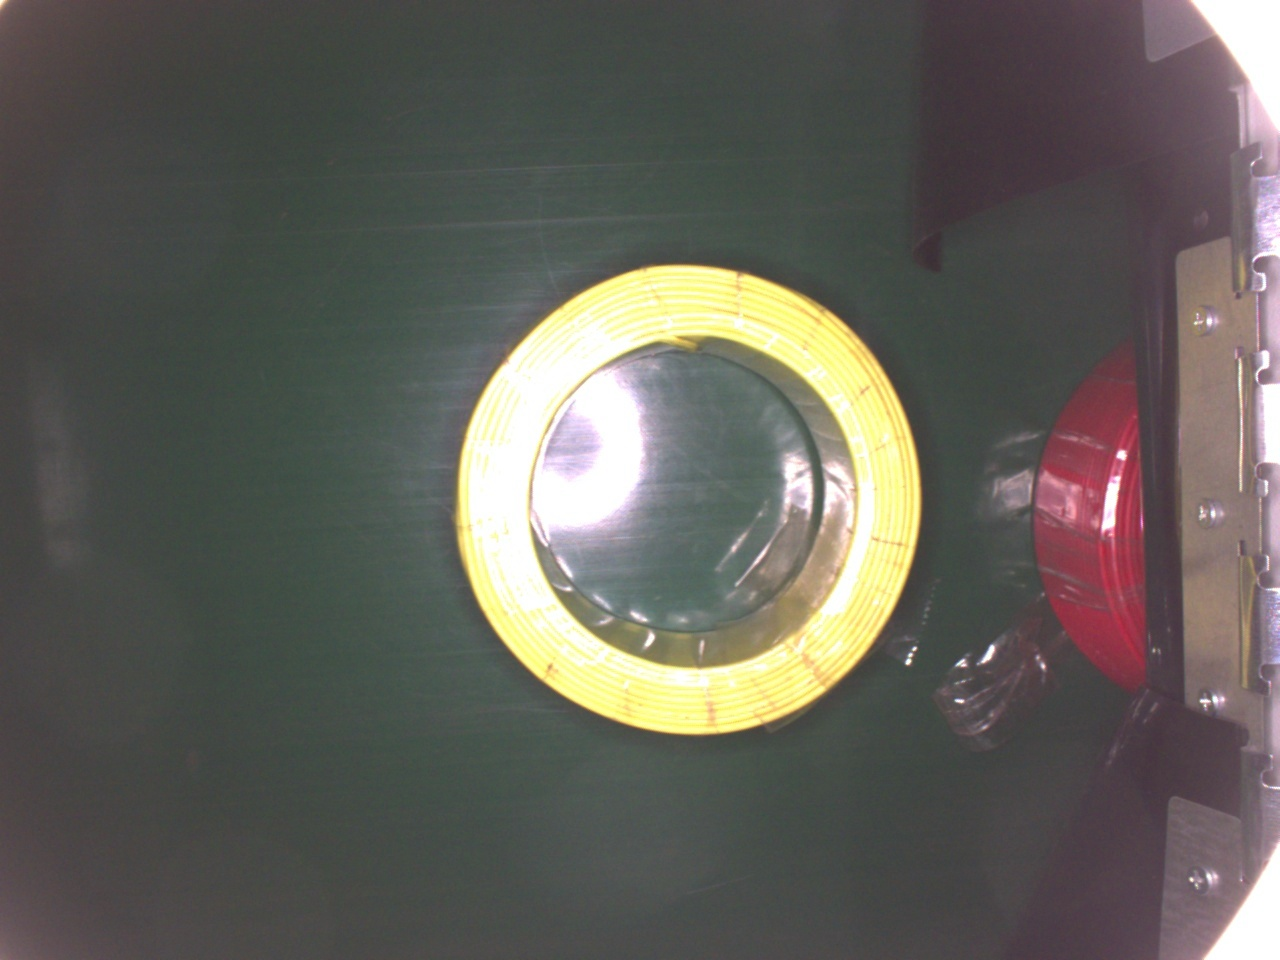red: (1031, 335, 1148, 687)
yellow: (444, 257, 935, 748)
